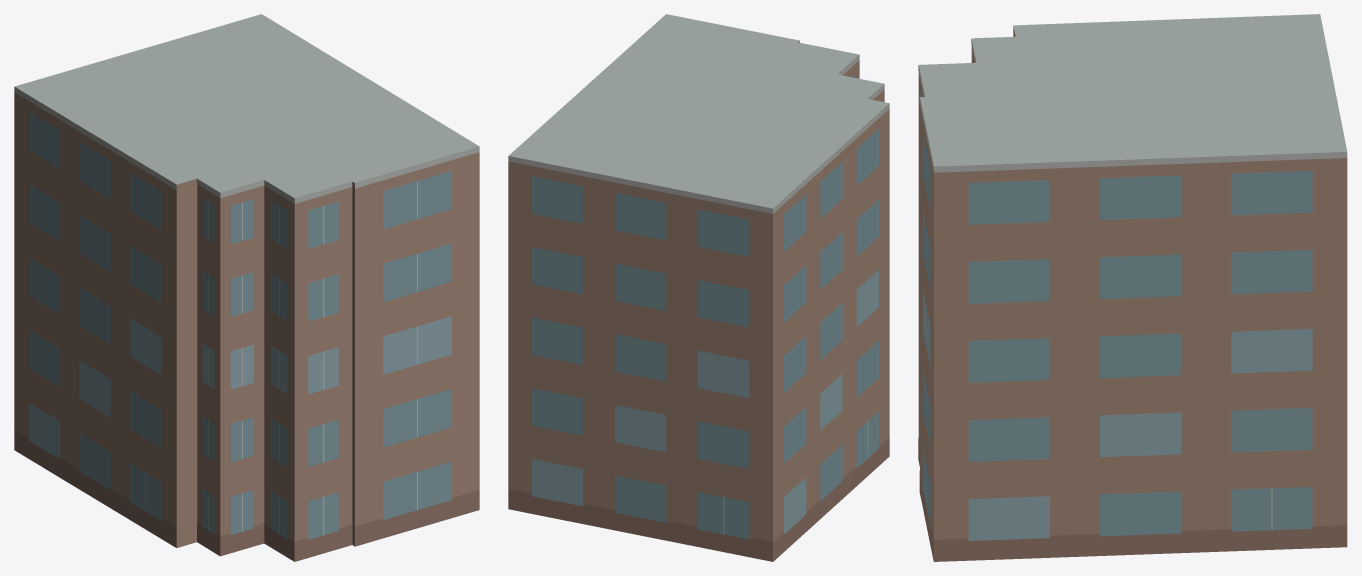
Rendered from survey-upis-32457433.glb.
3 views of the same model, side by side, from view 1: azimuth 30°, elevation 25°; view 2: azimuth 150°, elevation 25°; view 3: azimuth 270°, elevation 25° (orthographic). The views are drawn at different scales.
Visible parts, largest first — view 1: survey-upis-32457433.tmp; view 2: survey-upis-32457433.tmp; view 3: survey-upis-32457433.tmp.
Part boxes in pixels (x1,y1,x2,y2): survey-upis-32457433.tmp: [14, 14, 479, 561]; survey-upis-32457433.tmp: [508, 14, 889, 561]; survey-upis-32457433.tmp: [918, 14, 1347, 561].
Size of the model in its own units: 13.1 by 15.8 by 15.54.
